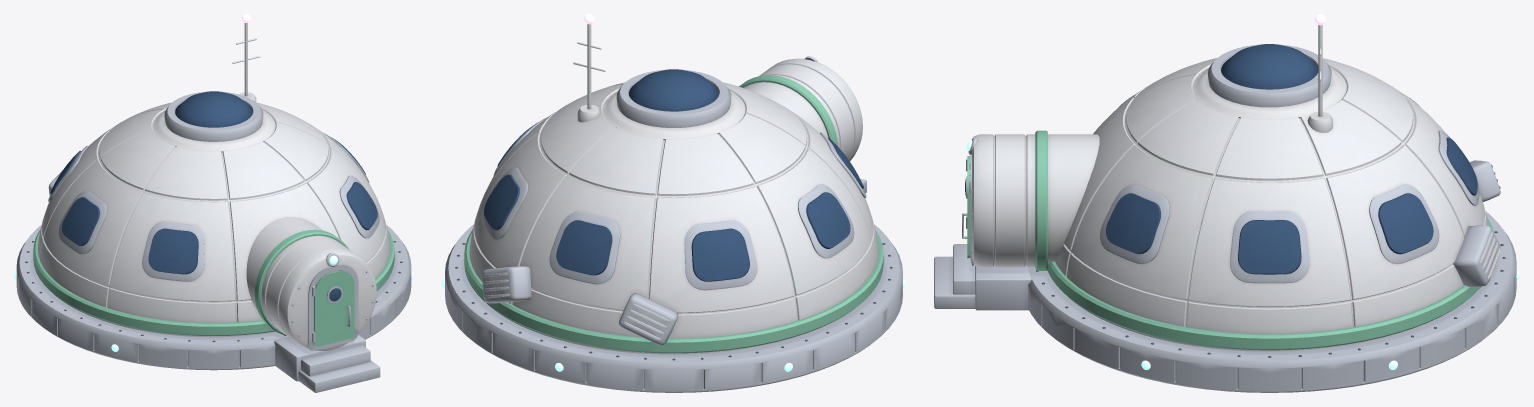
Rendered from habitat-dome.glb.
3 renders of one model, left to right at view 1: azimuth 30°, elevation 25°; view 2: azimuth 150°, elevation 25°; view 3: azimuth 270°, elevation 25°, orthographic. The views are drawn at different scales.
Visible parts, largest first — view 1: habitat-dome_body, habitat-dome_airlock_door; view 2: habitat-dome_body; view 3: habitat-dome_body, habitat-dome_airlock_door.
Part boxes in pixels (box(x1,y1,x2,y2)): habitat-dome_body: box(16, 23, 411, 392); habitat-dome_airlock_door: box(312, 271, 354, 346); habitat-dome_body: box(445, 24, 902, 392); habitat-dome_body: box(934, 25, 1516, 392); habitat-dome_airlock_door: box(962, 156, 970, 258).
Bounding box in the file's own units: 7.8 × 5.35 × 9.25.
4 materials, 2 textured.
